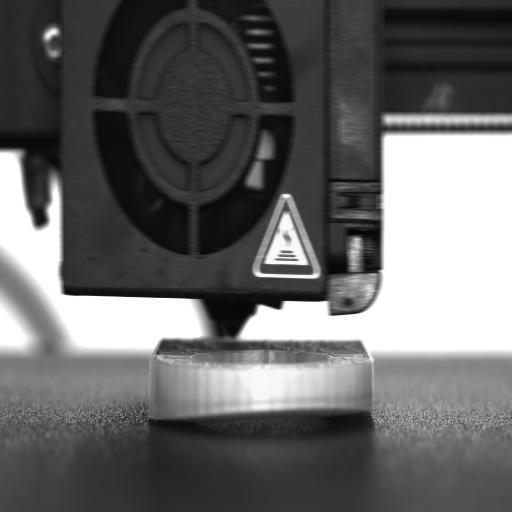warp: (153, 390, 371, 432)
